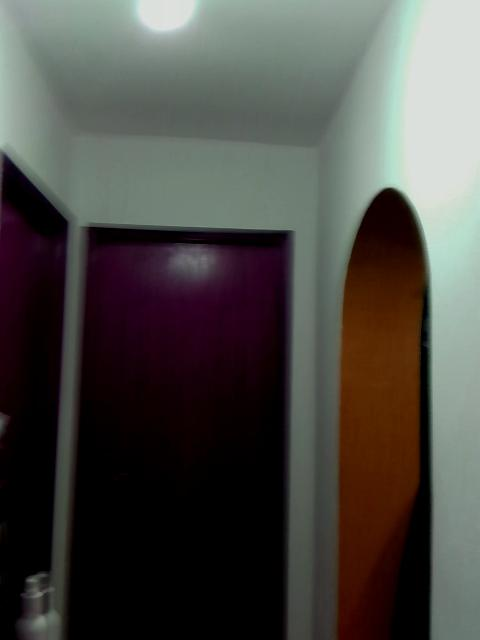closed_door: (67, 224, 289, 639)
